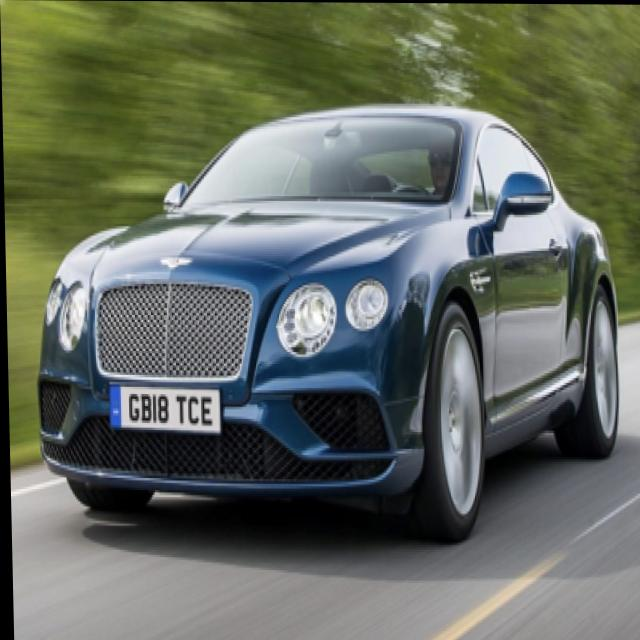licence: (107, 382, 219, 430)
